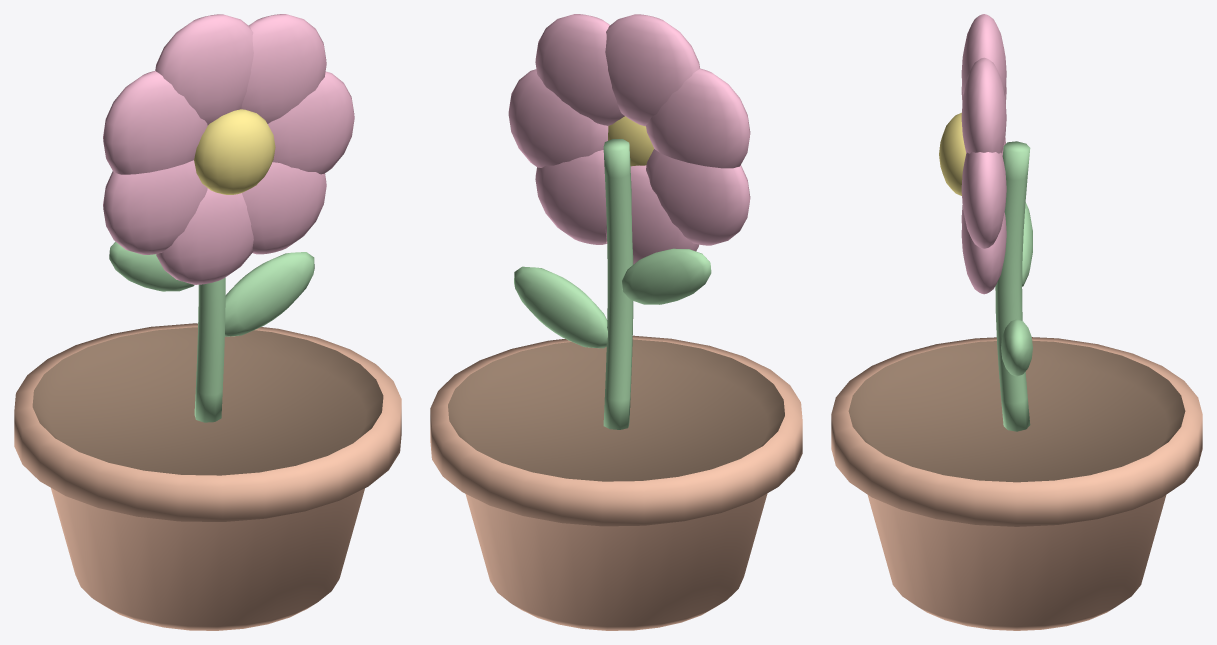
File: Fur_FlowerPot.fbx
3 renders of one model, left to right at view 1: azimuth 30°, elevation 25°; view 2: azimuth 150°, elevation 25°; view 3: azimuth 270°, elevation 25°, orthographic. The views are drawn at different scales.
Parts seen in each view (by area): view 1: Fur_FlowerPot; view 2: Fur_FlowerPot; view 3: Fur_FlowerPot.
Boxes of the visible parts, x1=… form: Fur_FlowerPot: x1=14, y1=14, x2=401, y2=630; Fur_FlowerPot: x1=430, y1=14, x2=802, y2=630; Fur_FlowerPot: x1=831, y1=14, x2=1202, y2=630.
Size of the model in its own units: 0.181 by 0.2985 by 0.181.
